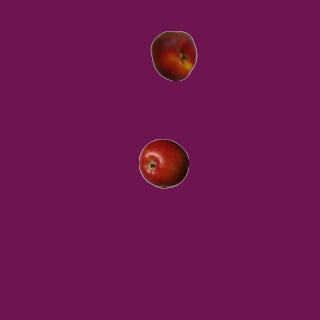Apple Braeburn: (138, 138, 188, 188)
Nectarine Flat: (148, 30, 198, 80)
